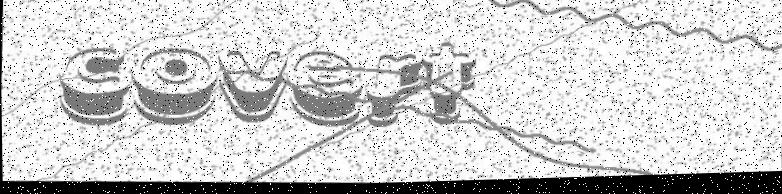c: (50, 38, 136, 132)
e: (285, 47, 366, 132)
o: (127, 44, 222, 133)
r: (368, 45, 429, 134)
t: (424, 39, 475, 133)
v: (211, 42, 289, 129)
